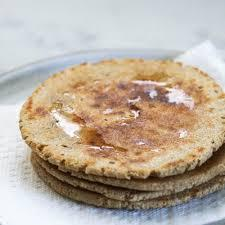bhakri: (16, 54, 225, 209)
